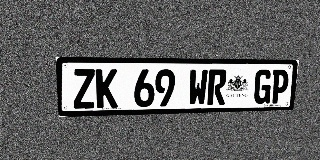6: (134, 69, 155, 107)
9: (155, 69, 175, 107)
G: (253, 69, 273, 104)
K: (95, 69, 118, 108)
P: (270, 70, 290, 104)
R: (207, 69, 227, 105)
W: (188, 69, 208, 106)
Z: (72, 69, 96, 109)
